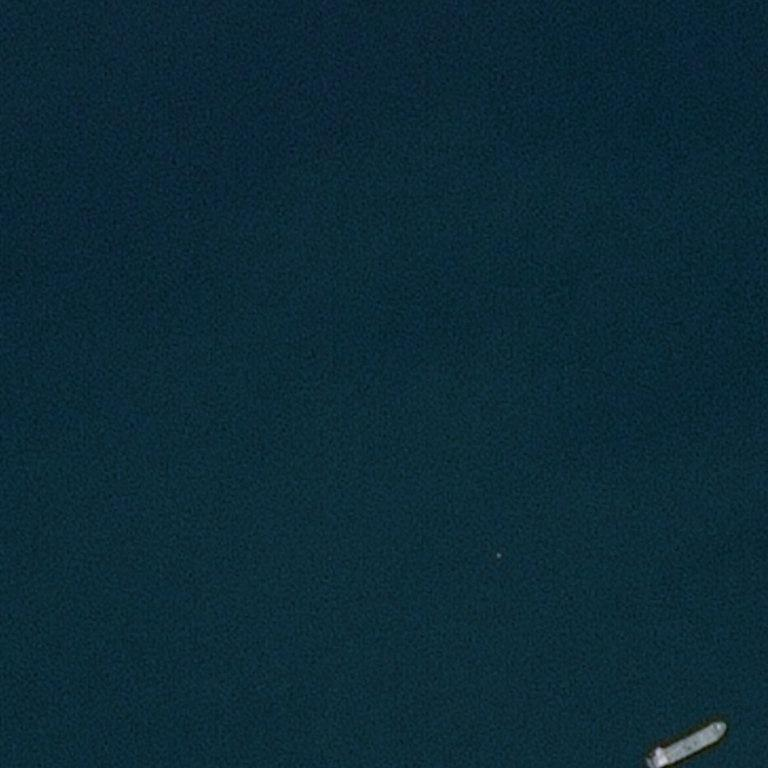ship: (687, 719, 688, 768), (645, 755, 649, 762), (723, 722, 727, 727), (649, 765, 658, 766)
